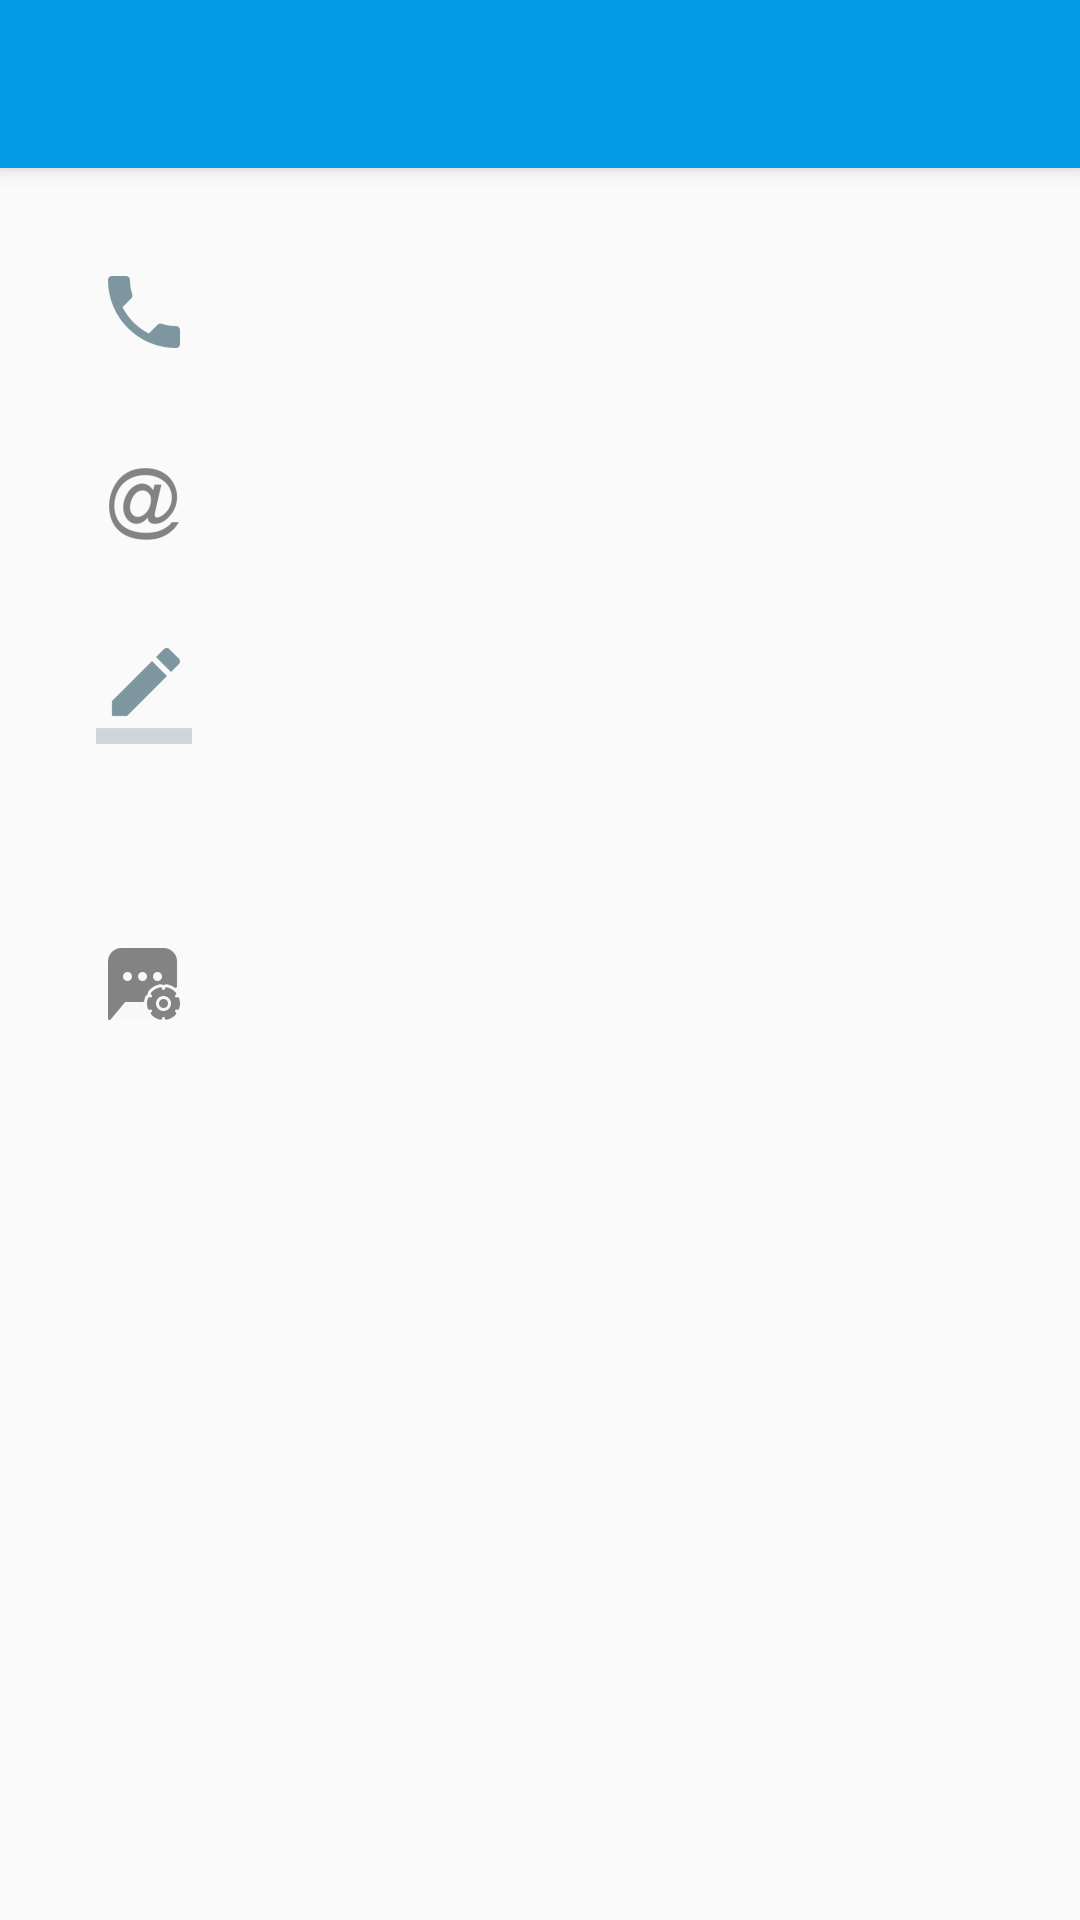

Point at icon controls on the screen. Image size 1080×1920, points as (x=x, y=y).
email: (x=144, y=504)
note: (x=144, y=696)
phone: (x=144, y=312)
